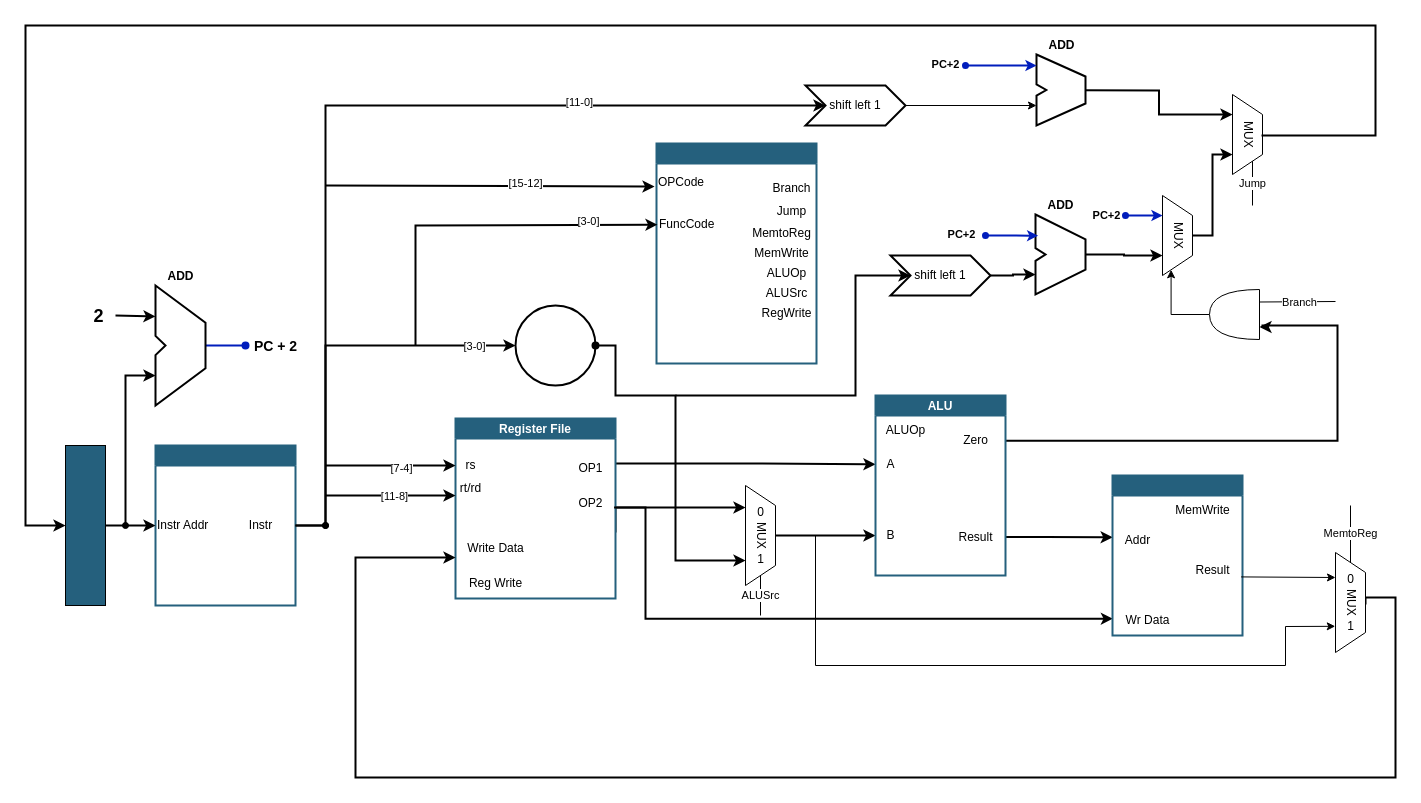
This 1421x803 diagram has some shape labels left out. The box of each missing label's shape, as (x1, y1, x2, y2) in pixels:
Control Unit: (655, 142, 817, 364)
Data Memory: (1111, 474, 1243, 636)
Instruction Memory: (154, 444, 296, 606)
PC: (64, 444, 106, 606)
sign extend: (514, 304, 596, 386)
